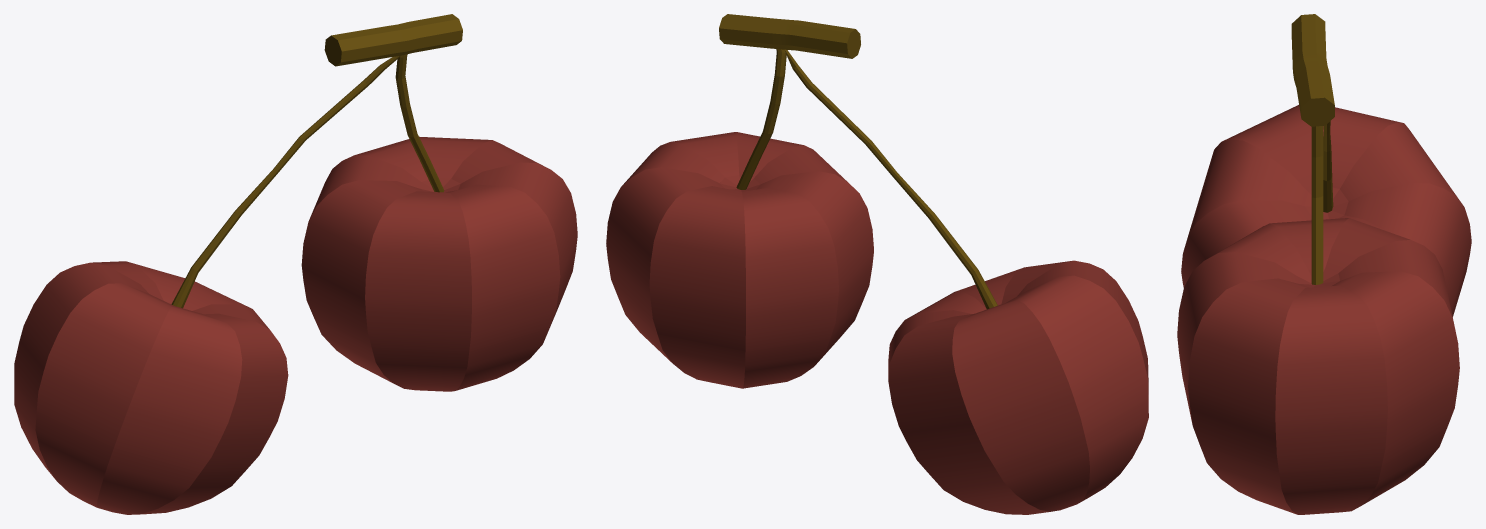
File: berries.fbx
The picture shows the model from 3 angles, left to right: view 1: azimuth 30°, elevation 25°; view 2: azimuth 150°, elevation 25°; view 3: azimuth 270°, elevation 25°; orthographic projection. The views are drawn at different scales.
Parts seen in each view (by area): view 1: pCylinder6; view 2: pCylinder6; view 3: pCylinder6.
Boxes of the visible parts, x1,y1,x2,y2 form: pCylinder6: (14, 14, 577, 514); pCylinder6: (606, 14, 1148, 514); pCylinder6: (1177, 14, 1471, 514).
Bounding box in the file's own units: 3.99 × 3.1 × 1.69.
